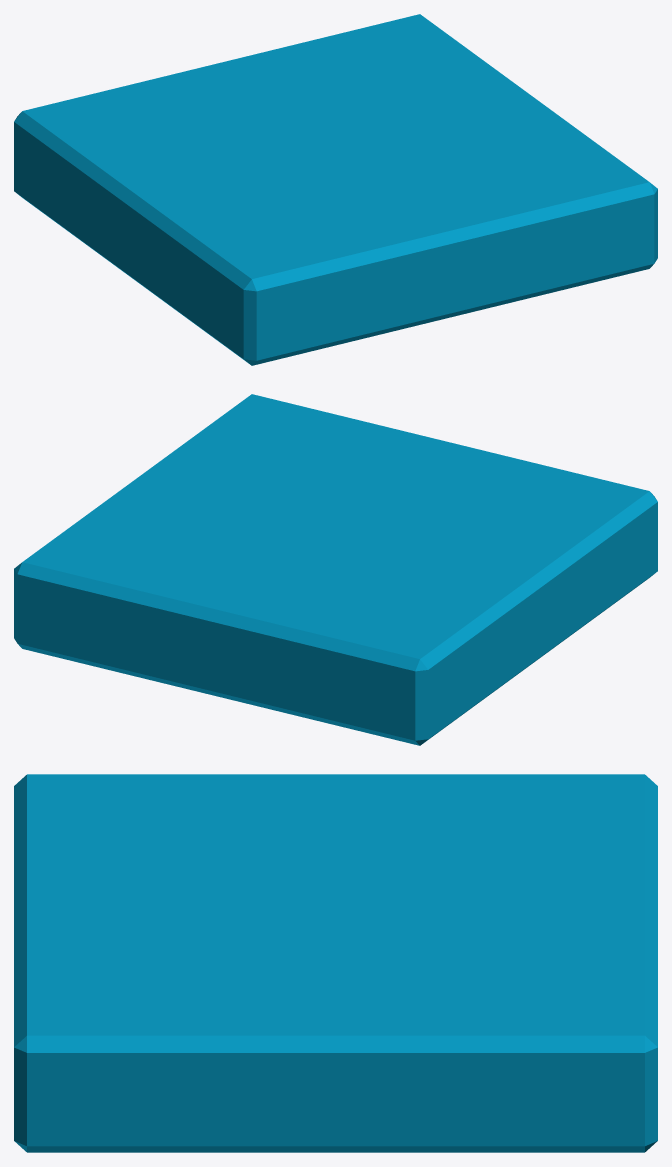
Rendered from testFloor.fbx.
The picture shows the model from 3 angles, top to bottom: view 1: azimuth 30°, elevation 25°; view 2: azimuth 150°, elevation 25°; view 3: azimuth 270°, elevation 25°; orthographic projection. The views are drawn at different scales.
Parts seen in each view (by area): view 1: pCube1; view 2: pCube1; view 3: pCube1.
Boxes of the visible parts, x1,y1,x2,y2 form: pCube1: [14, 14, 657, 365]; pCube1: [14, 394, 657, 745]; pCube1: [14, 774, 657, 1152].
Bounding box in the file's own units: 1 × 0.2 × 1.
